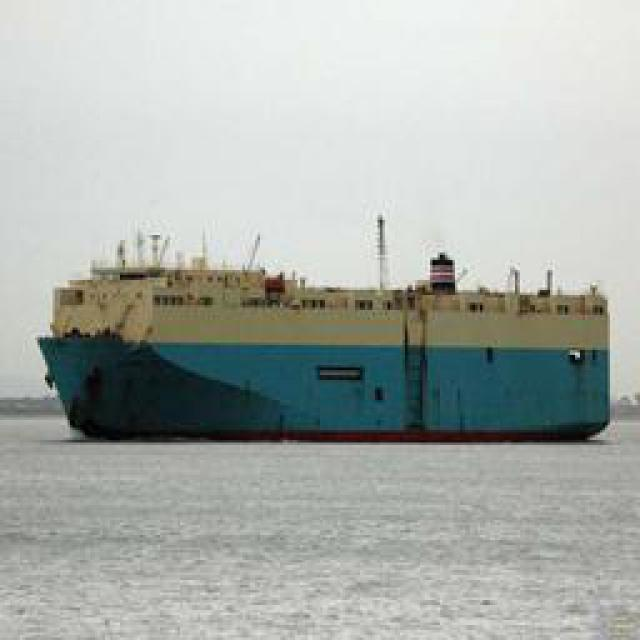Ship: (36, 245, 626, 445)
